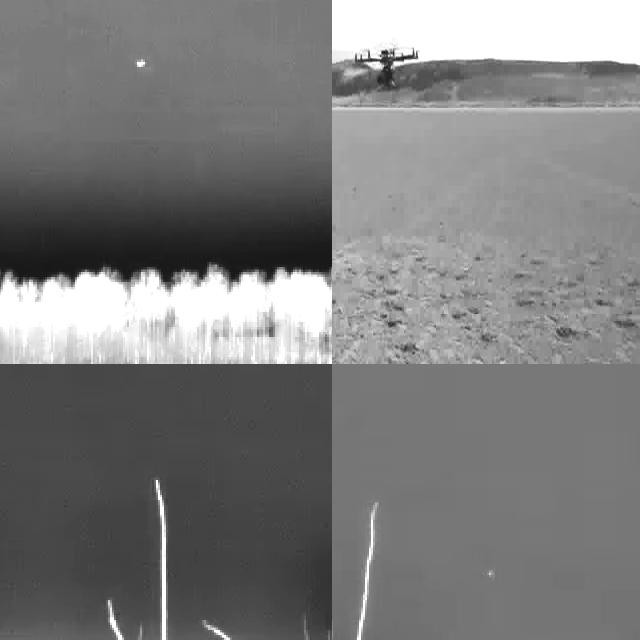0: (480, 558, 506, 592), (47, 364, 65, 372)
1: (132, 54, 156, 80)
drone: (356, 46, 420, 91)
